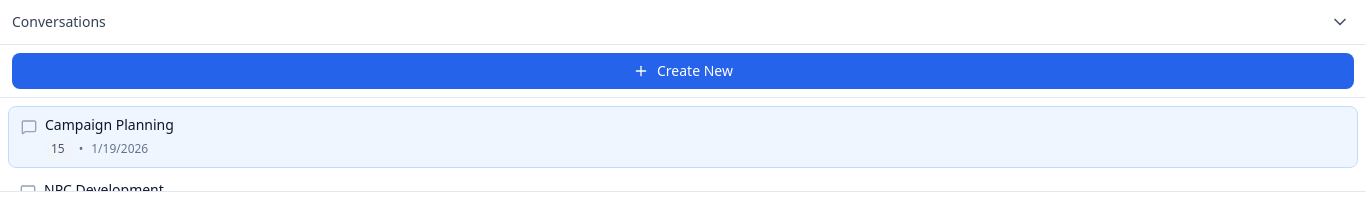
it: ConversationSidebar Component - Expand/Collapse Behavior (Issue #203) › should hide conversation list when toggle button is clicked
The image size is (1366, 209).
Expected: the text "Campaign Planning" is shown, [45,115,174,134]
Note: Click to collapse
Click the button named "toggle conversations".
click(1340, 22)  # box [1326,8,1354,36]
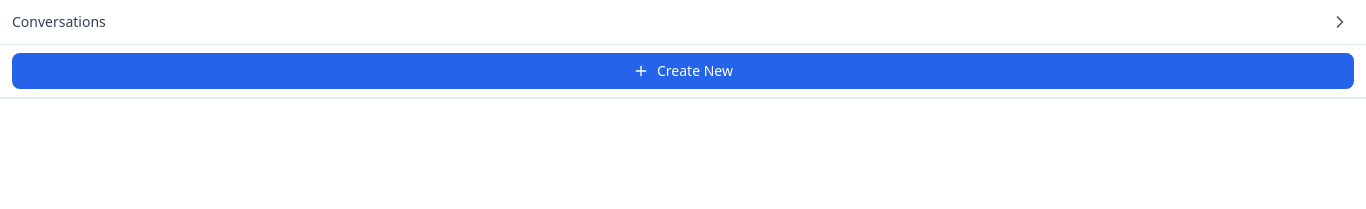
Expected: the button "Campaign Planning" is gone
